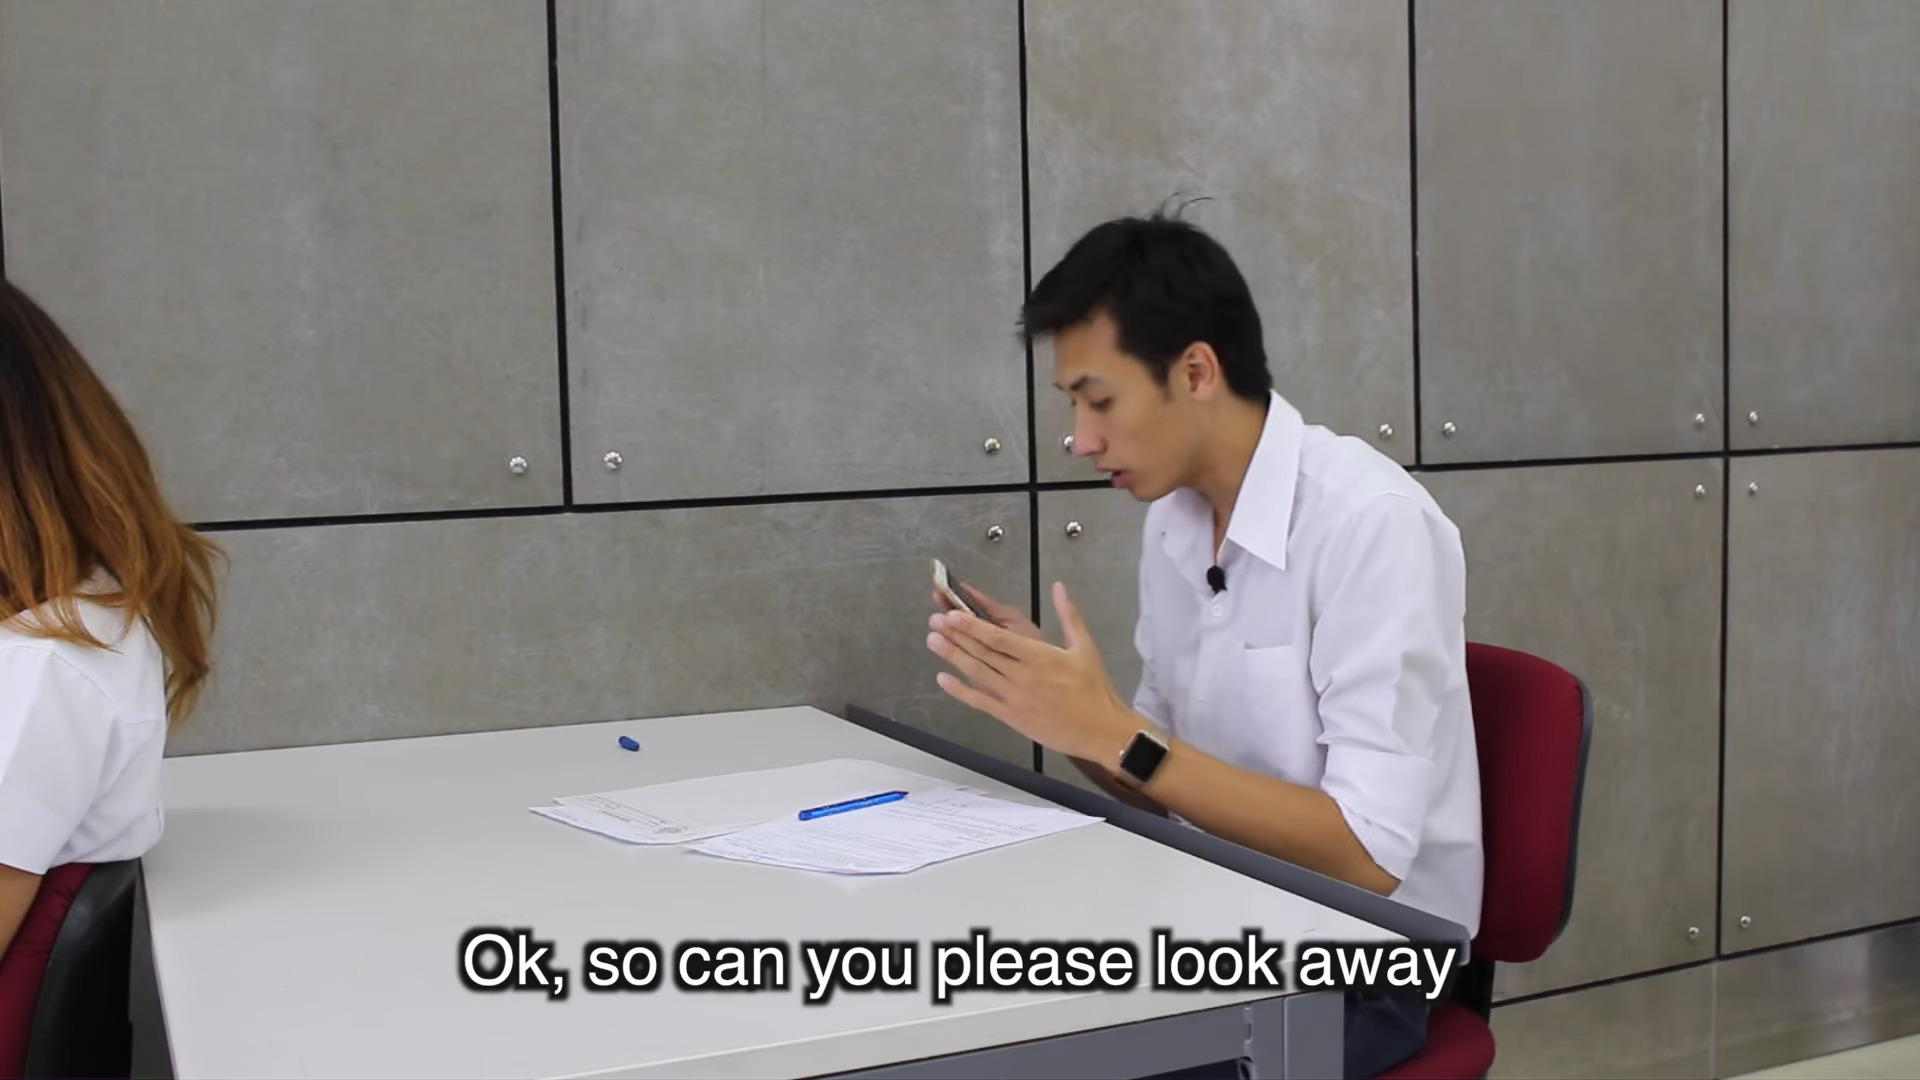cheating: (521, 170, 1513, 918)
